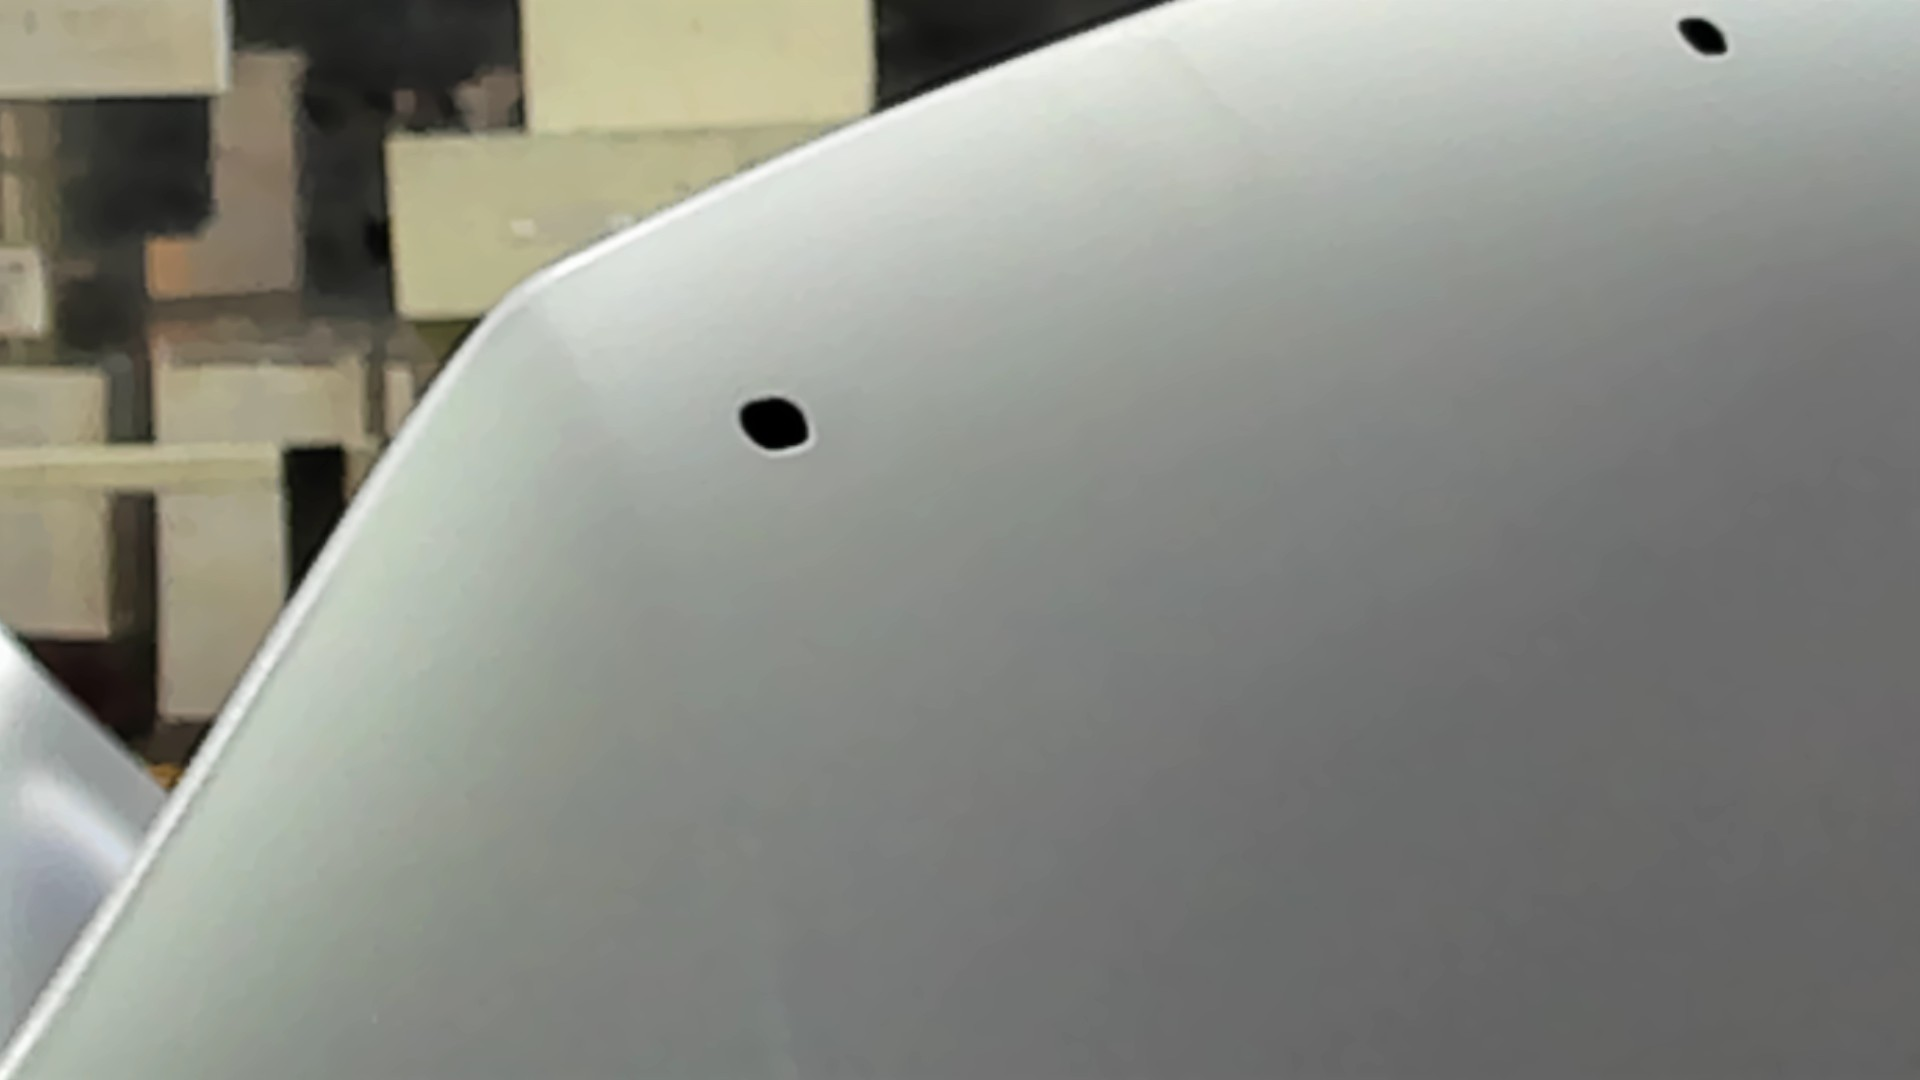amorfo: (727, 392, 820, 458), (1671, 9, 1731, 63)
capo: (874, 123, 1920, 1080)
